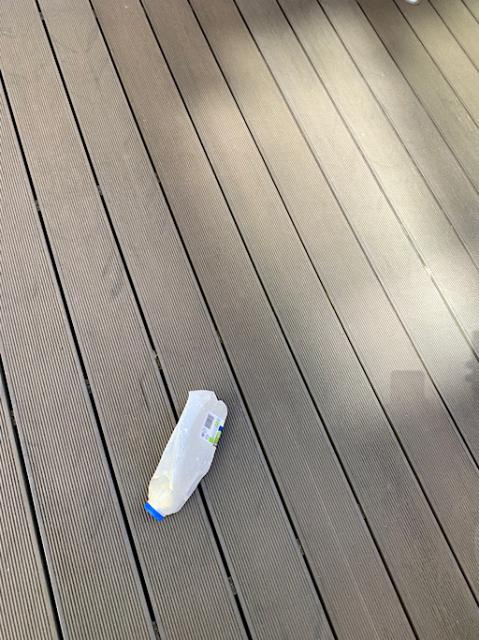plastic: (143, 389, 226, 519)
